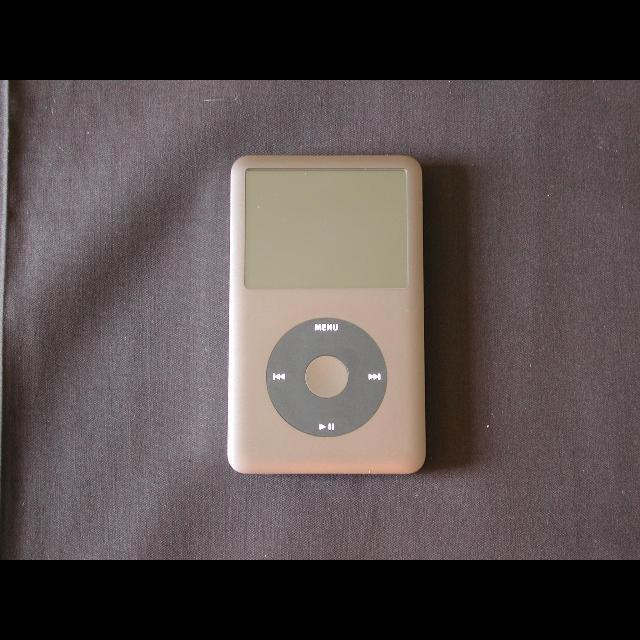Music-Player: (223, 149, 433, 487)
